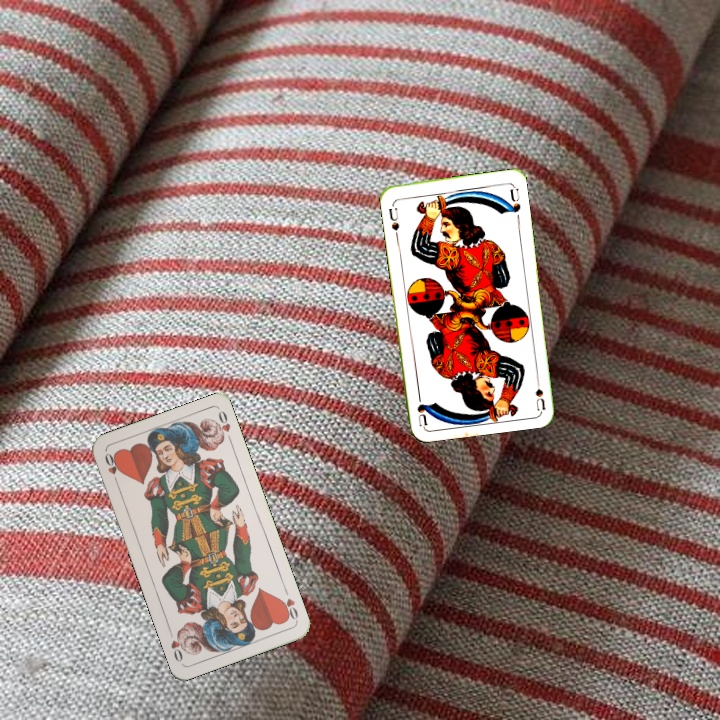HO: (277, 584, 301, 623), (101, 449, 123, 488)
SU: (531, 371, 548, 412), (385, 204, 402, 233)
